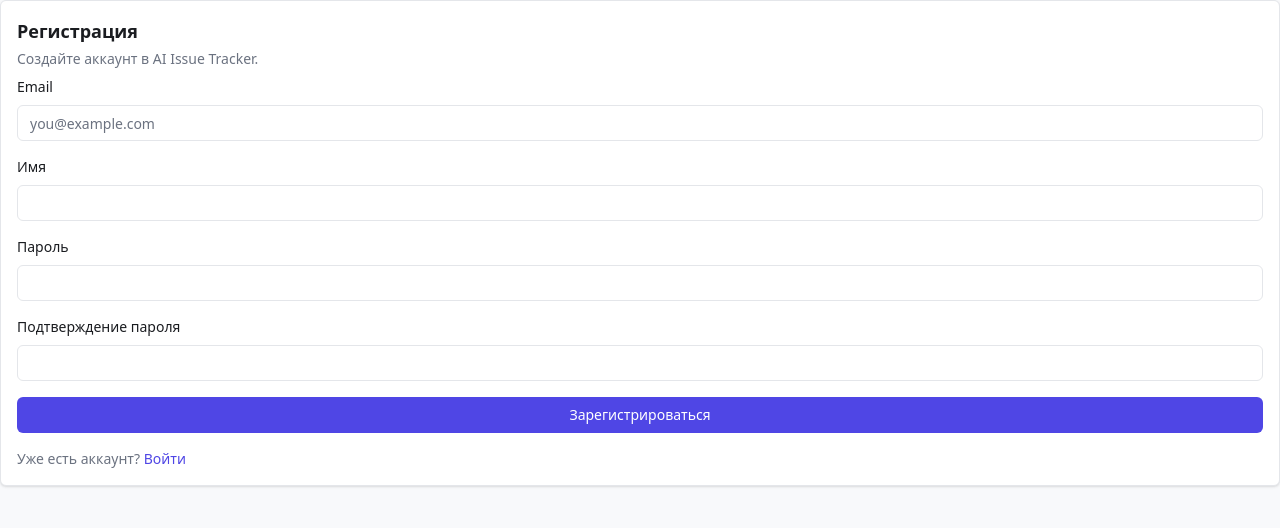
Test case: RegisterForm › раскладывает ошибку 409 на поле email
Type "taken@example.com" into the field labelled "Email".
click(640, 123); type("taken@example.com")  # box 17,105 -> 1263,141
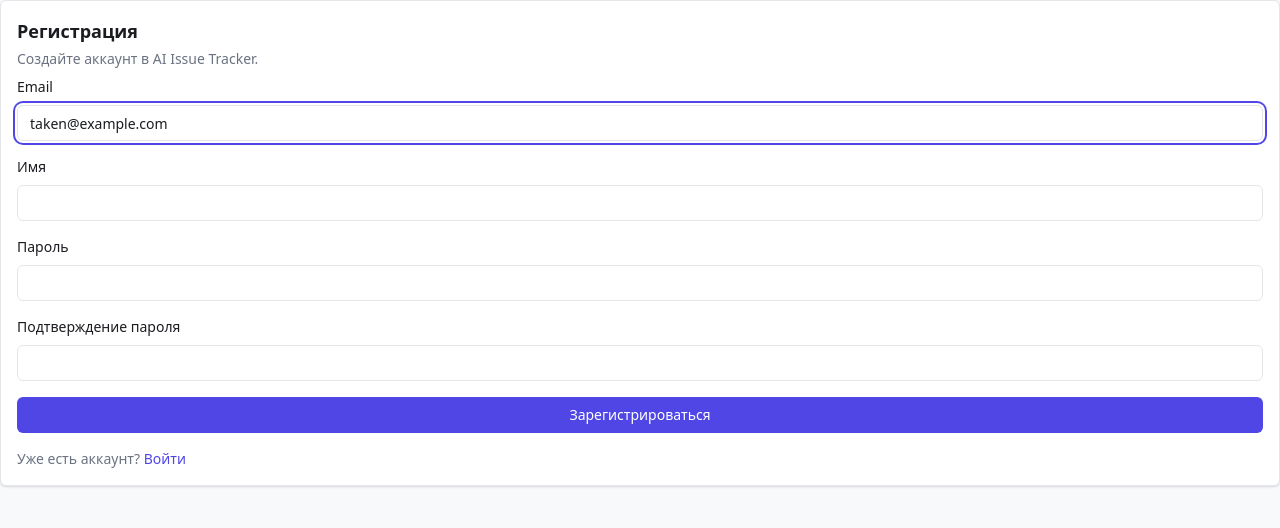
Type "User" into the field labelled "Имя".
click(640, 203); type("User")  # box 17,185 -> 1263,221
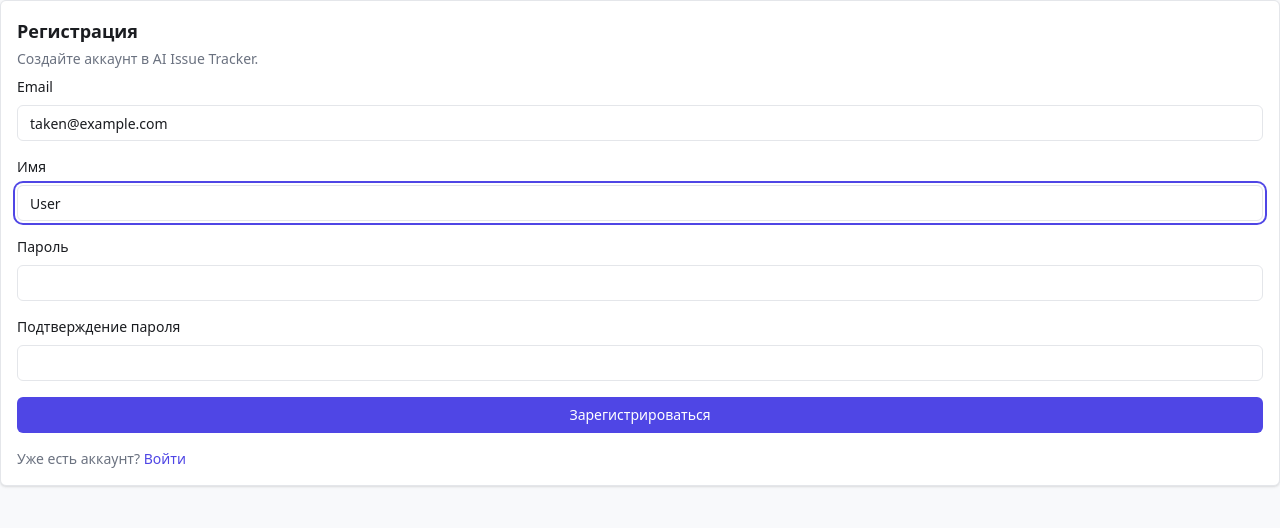
Type "secret123" into the password field labelled "Пароль".
click(640, 283); type("secret123")  # box 17,265 -> 1263,301
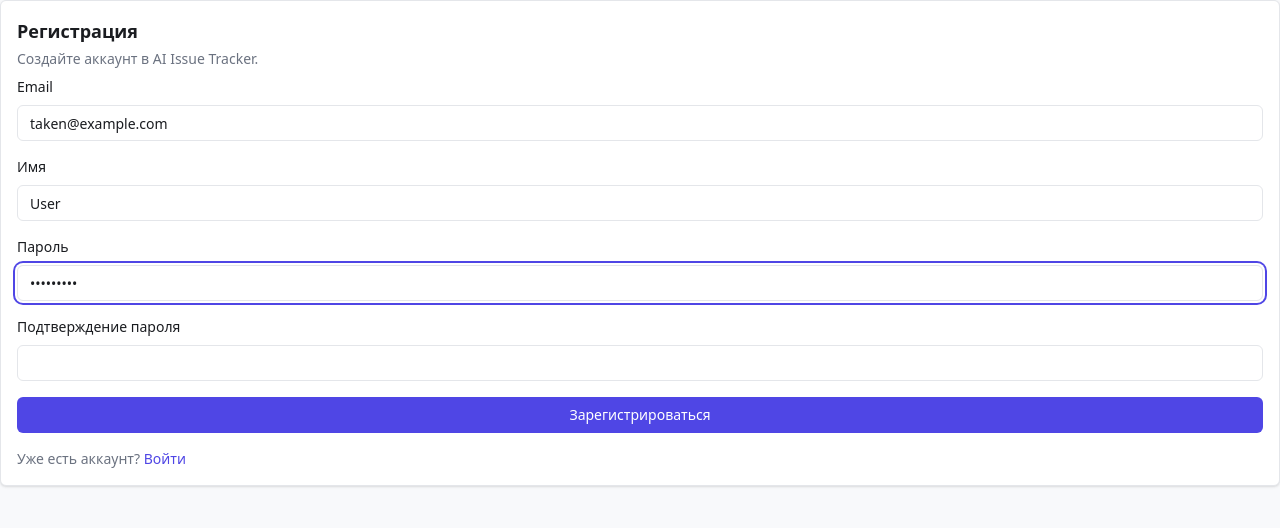
Type "secret123" into the password field labelled "Подтверждение пароля".
click(640, 363); type("secret123")  # box 17,345 -> 1263,381
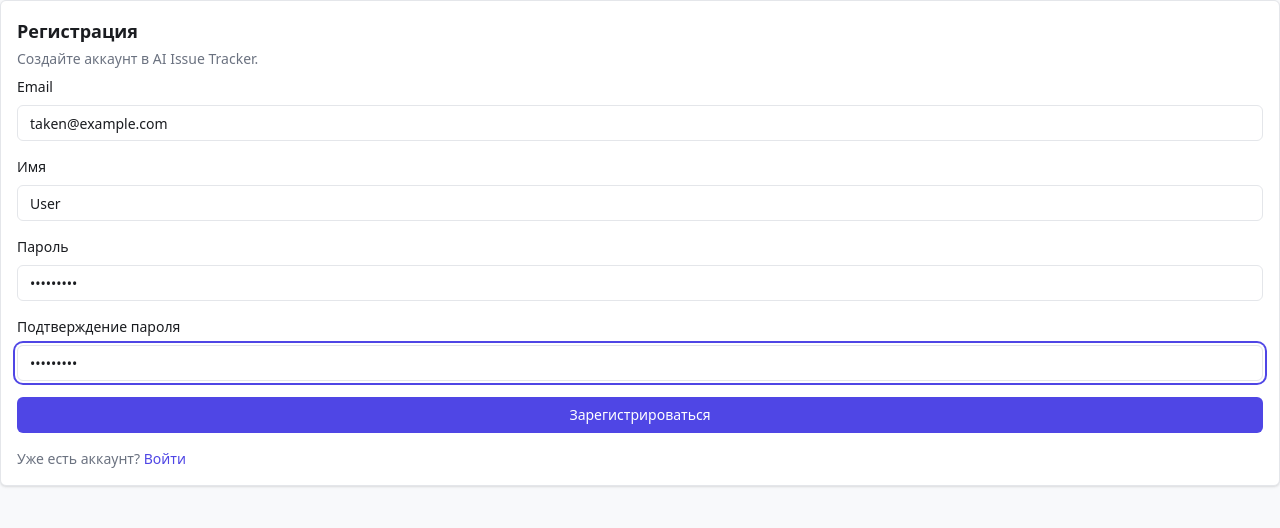
Click the button "Зарегистрироваться".
click(640, 415)  # box 17,397 -> 1263,433
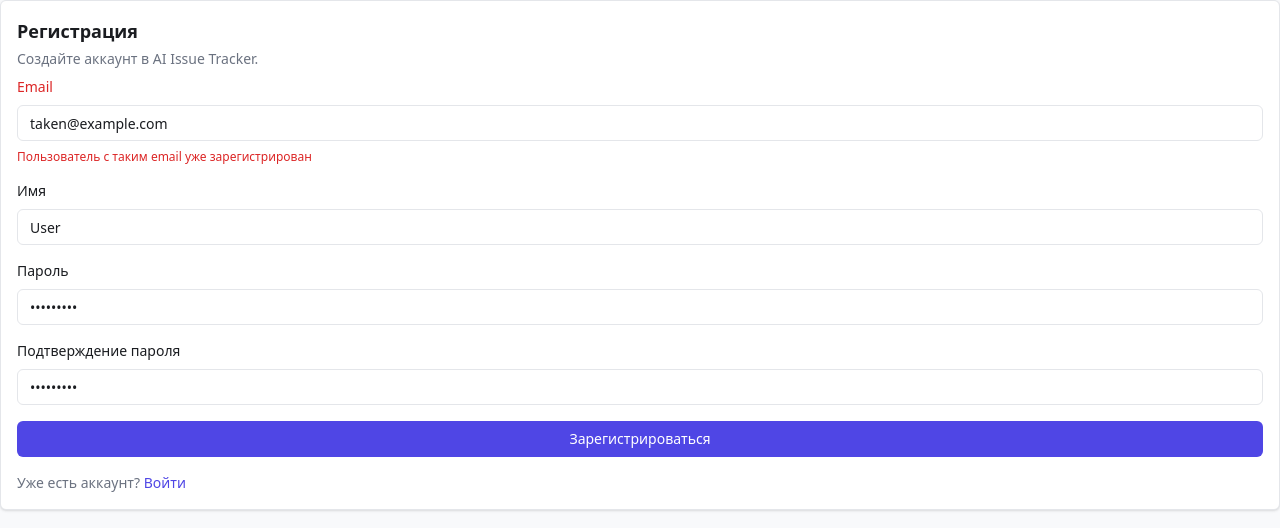
Now the text "Пользователь с таким email уже зарегистрирован" is shown, box 17,148 -> 312,165
